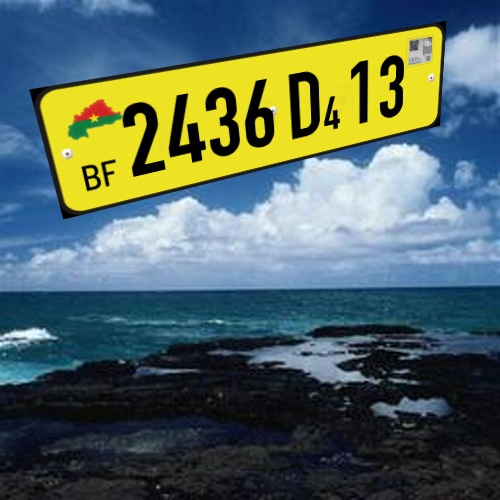plate: (12, 15, 469, 225)
